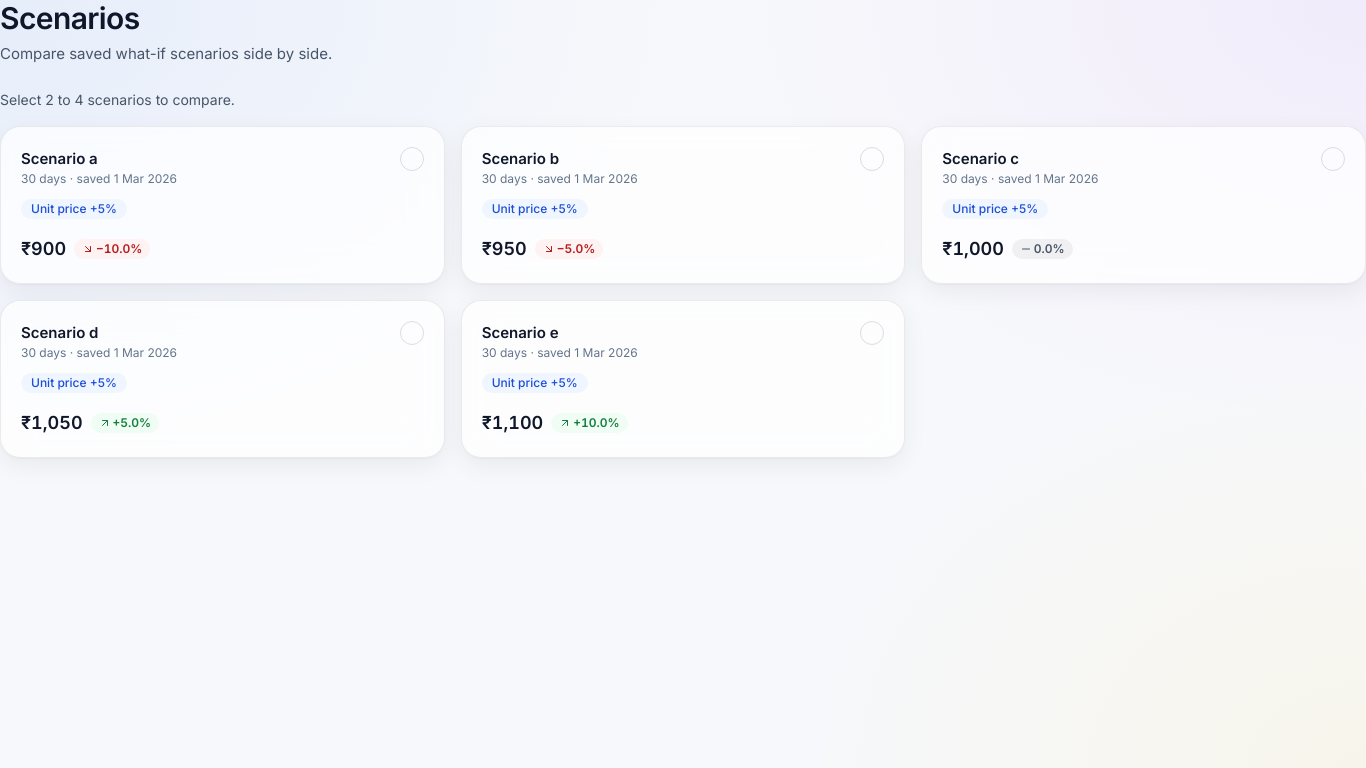
Test: Scenarios › Selecting two scenarios compares them; at most four can be selected
The image size is (1366, 768).
Click the checkbox that starts with "Scenario a": (59, 158) [0,126,445,284]
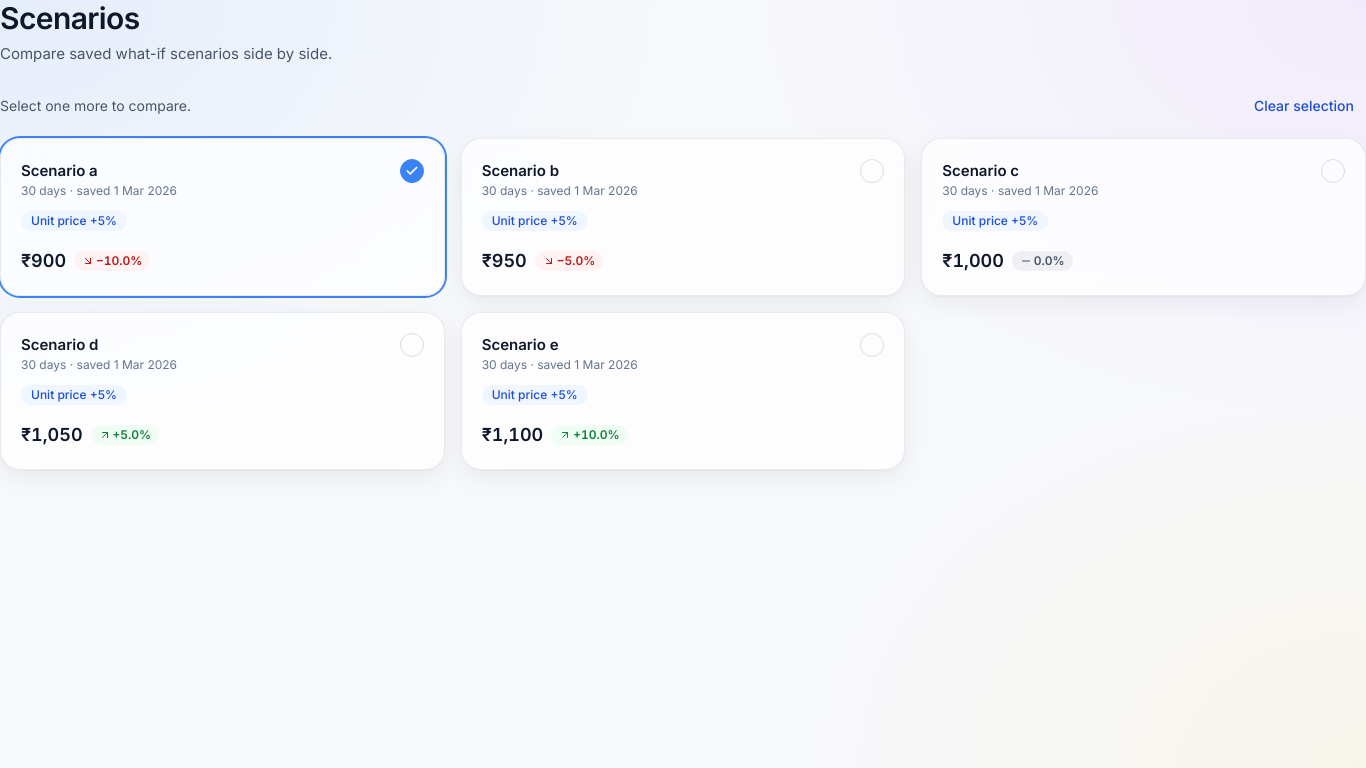
Check: the text "Select one more to compare." is shown, box [0,96,191,116]
Click the checkbox that starts with "Scenario b": (520, 170) [461,138,905,296]
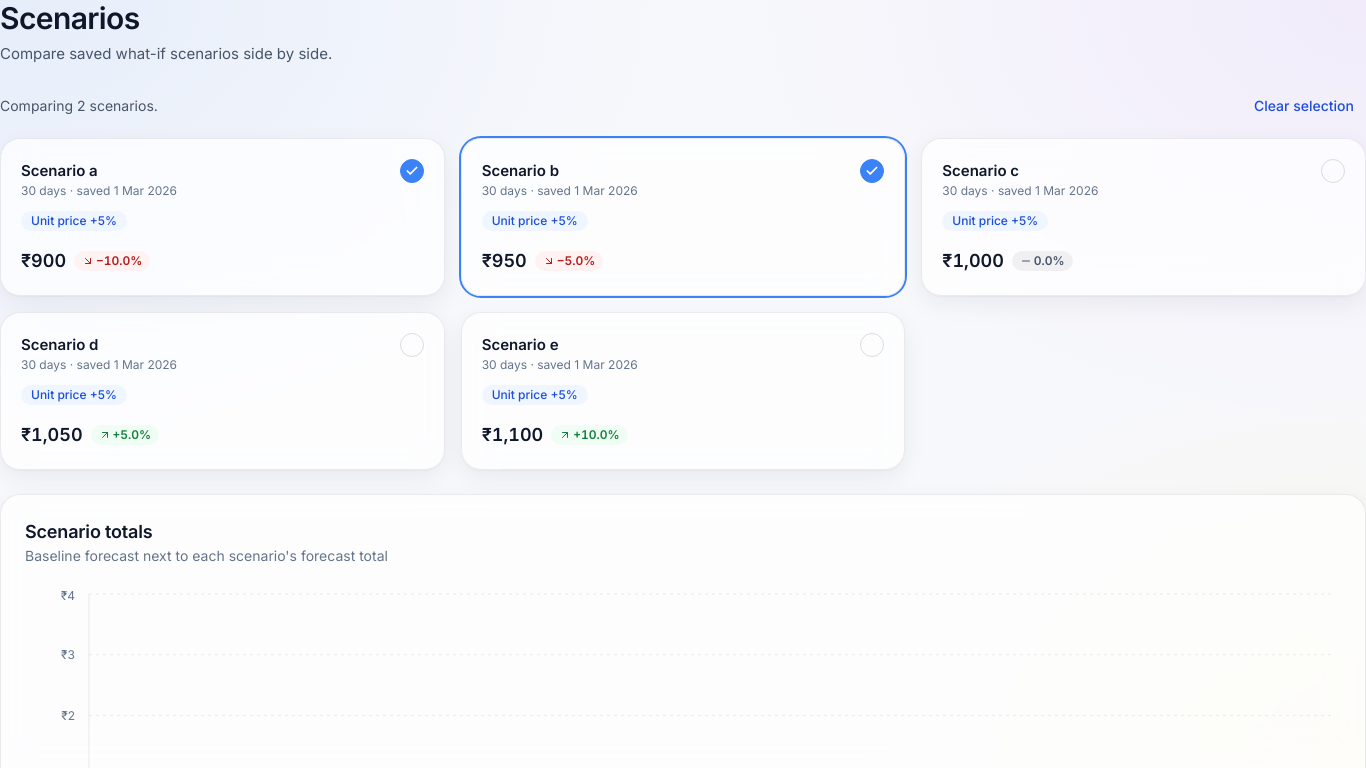
Click the checkbox that starts with "Scenario c": (981, 170) [921,138,1365,296]
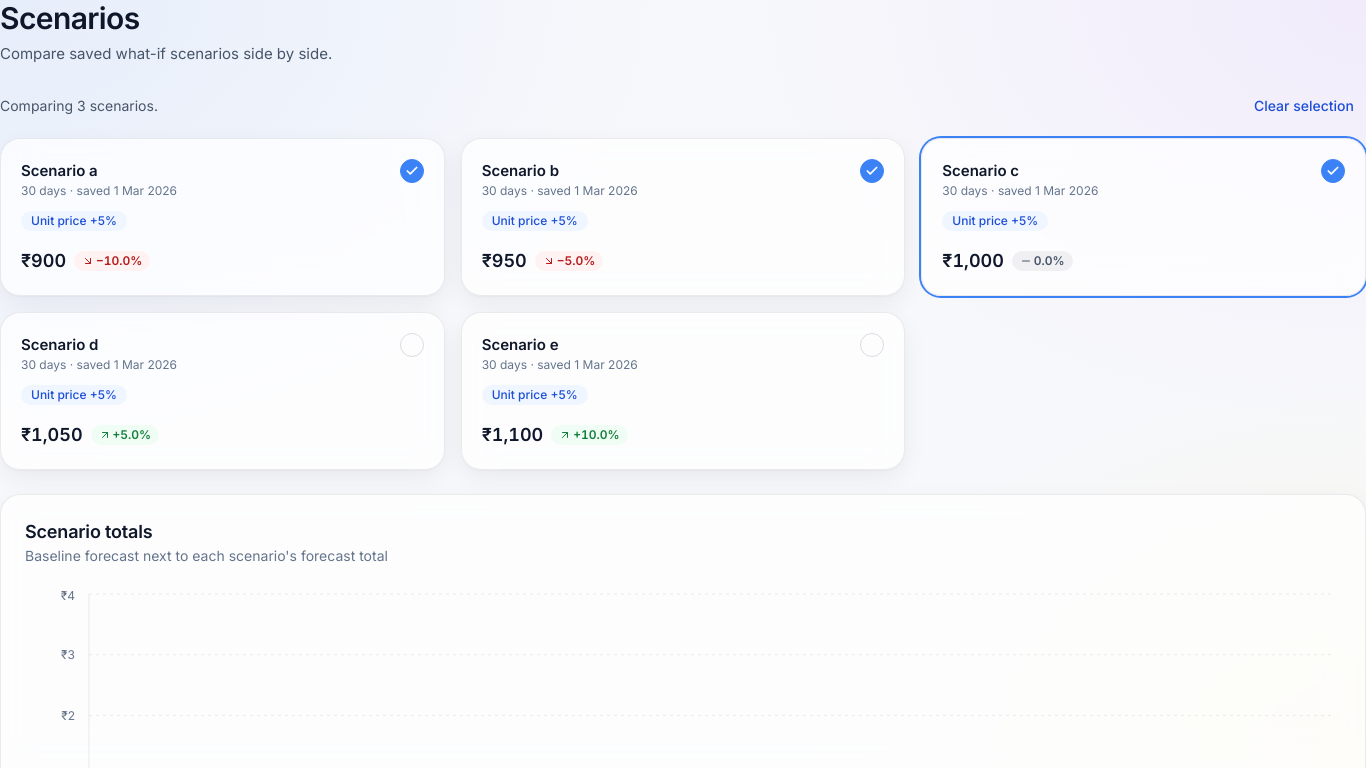
Click the checkbox that starts with "Scenario d": (60, 344) [0,312,445,470]
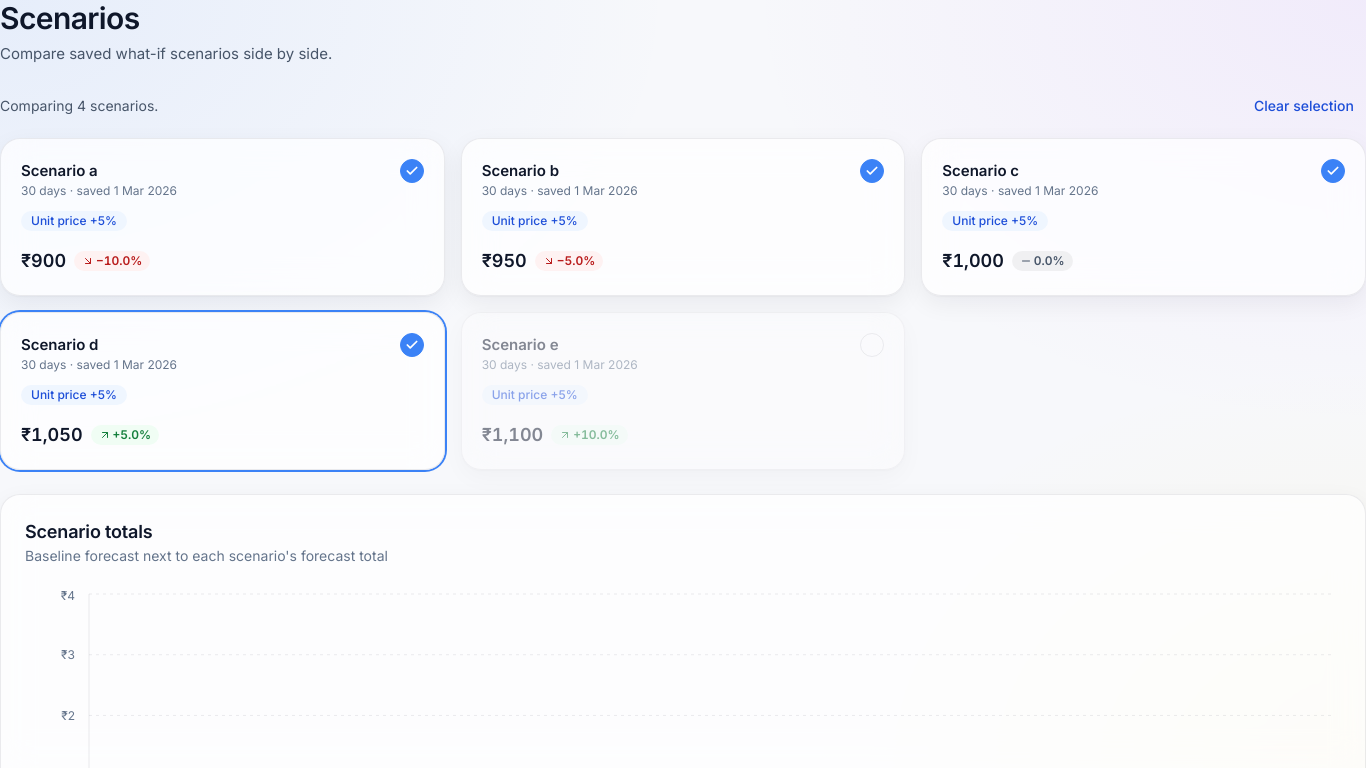
Check: the checkbox that starts with "Scenario e" is disabled, box [461,312,905,470]
